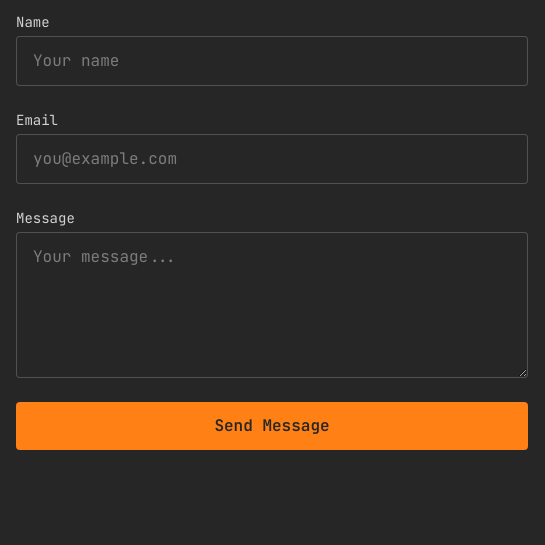
ContactForm › error response › displays error message from server on non-ok response
The image size is (545, 545).
Type "John Doe" into the field labelled "Name".
click(272, 61); type("John Doe")  # box left=16, top=36, right=528, bottom=86
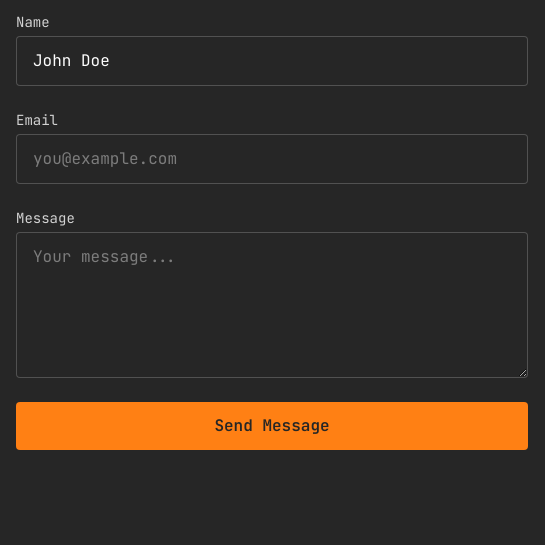
Type "john@example.com" into the field labelled "Email".
click(272, 159); type("john@example.com")  # box left=16, top=134, right=528, bottom=184
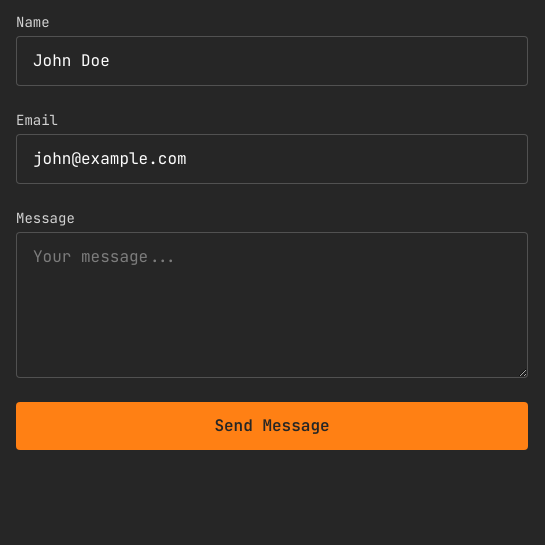
Type "Hello, this is a test message." into the text box labelled "Message".
click(272, 305); type("Hello, this is a test message.")  # box left=16, top=232, right=528, bottom=378
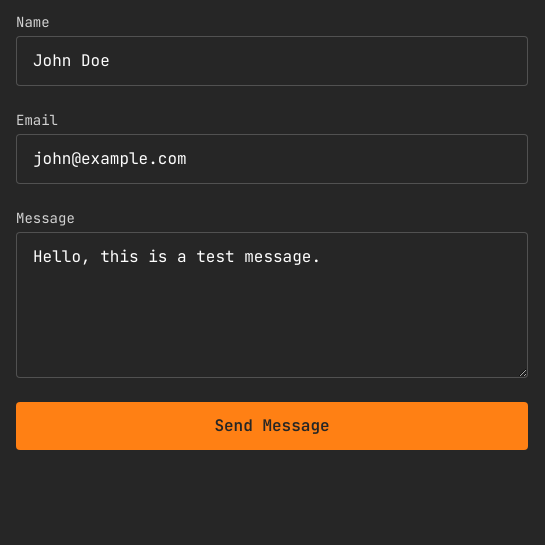
Click the button "Send Message".
click(272, 426)  # box left=16, top=402, right=528, bottom=450
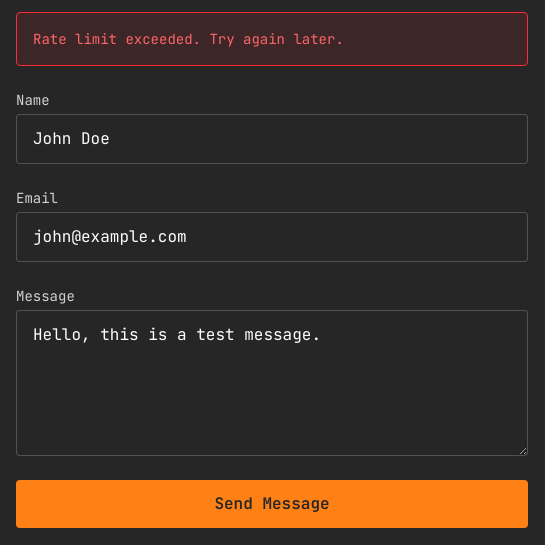
Result: the text "Rate limit exceeded. Try again later." is shown at left=16, top=12, right=528, bottom=66
